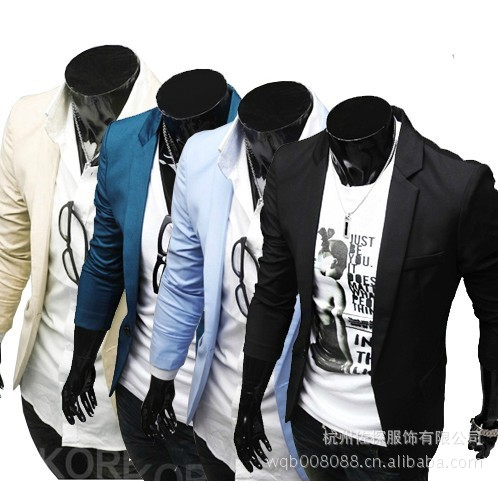F_M_suit jacket: (247, 136, 498, 454)
